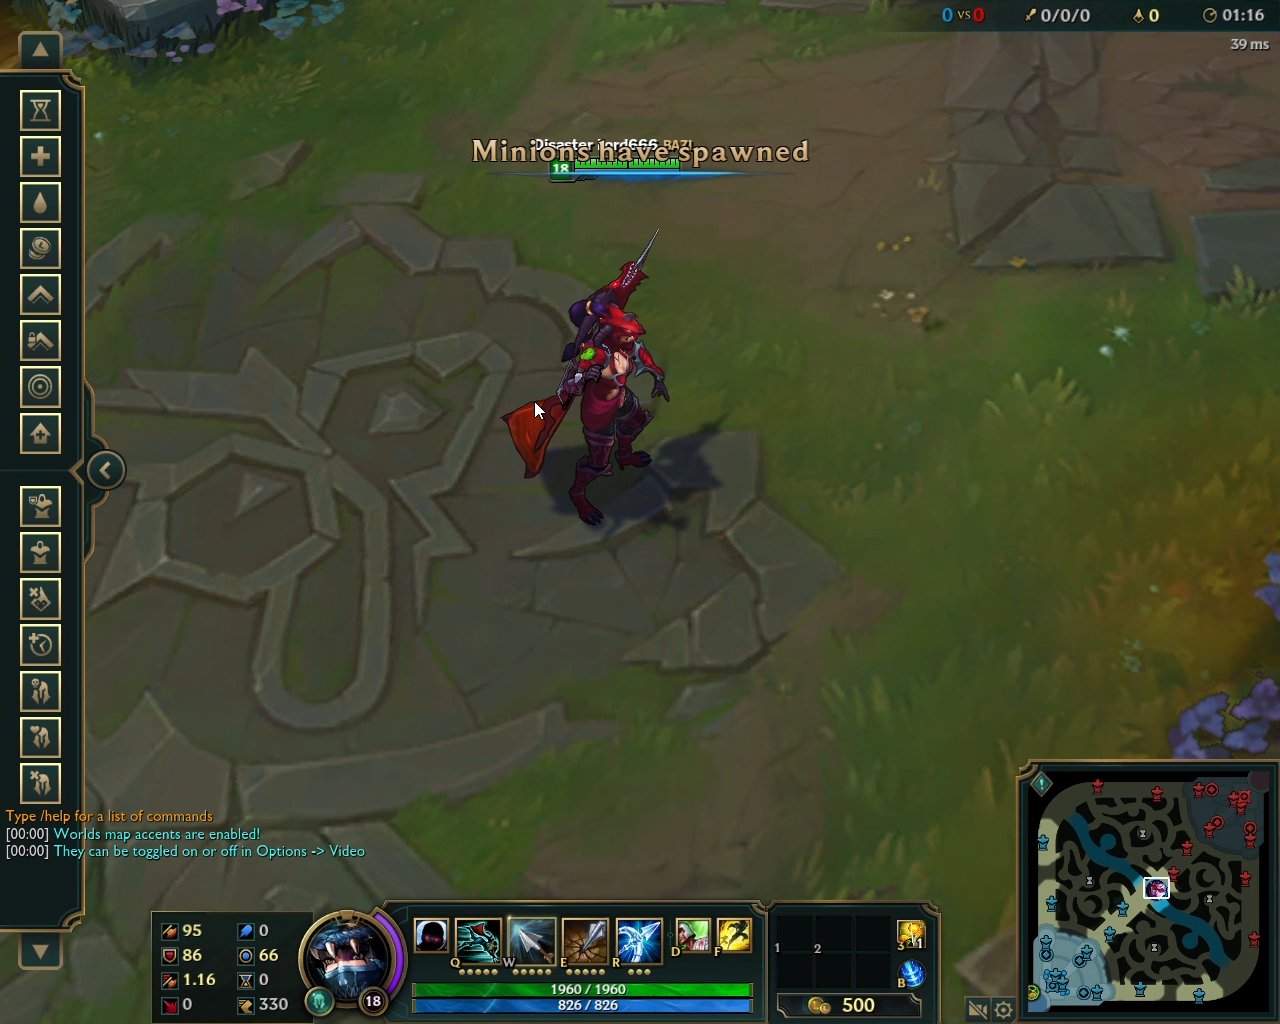Vayne: (495, 220, 684, 536)
